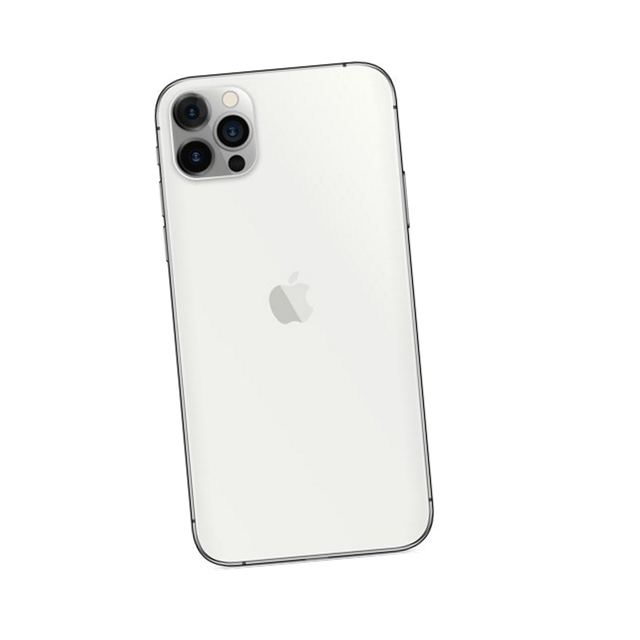iphone_12pro_silver: (136, 60, 457, 578), (165, 84, 264, 186)
